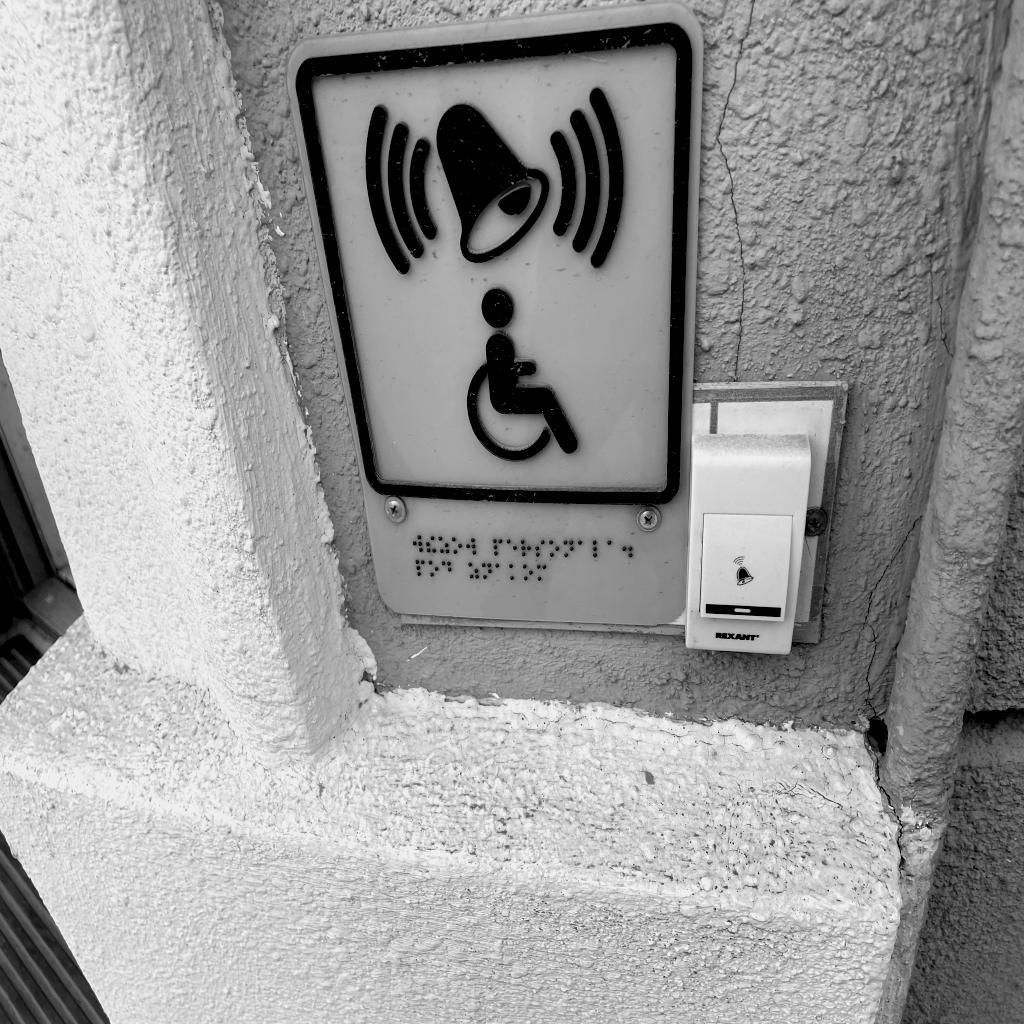_n: (563, 540, 574, 558), (482, 562, 492, 580)
a: (578, 539, 588, 558), (607, 540, 616, 558), (495, 563, 504, 581)
d: (442, 561, 452, 581)
e: (507, 539, 517, 558)
ii: (426, 536, 436, 554)
k: (509, 563, 519, 581)
l: (593, 540, 603, 558)
m: (537, 564, 547, 581)
o: (452, 537, 462, 555), (549, 539, 559, 557), (523, 563, 533, 581), (429, 560, 439, 577)
p: (415, 559, 425, 577), (493, 539, 503, 556)
r: (520, 539, 531, 557)
s: (535, 539, 545, 557)
tochka: (622, 538, 633, 558)
v: (413, 534, 423, 553), (466, 537, 476, 555)
z: (438, 536, 449, 554), (468, 562, 479, 580)
